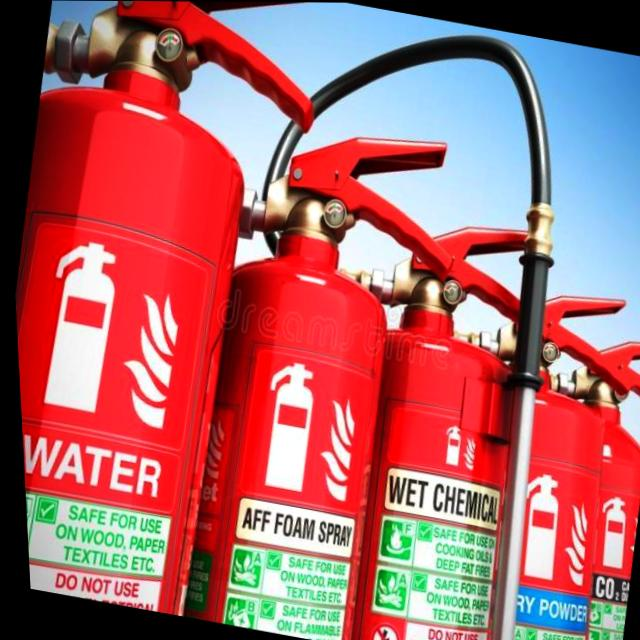FireExtinguisher: (166, 1, 613, 640), (0, 0, 365, 629), (99, 91, 490, 640), (362, 258, 640, 640), (448, 306, 640, 640)
